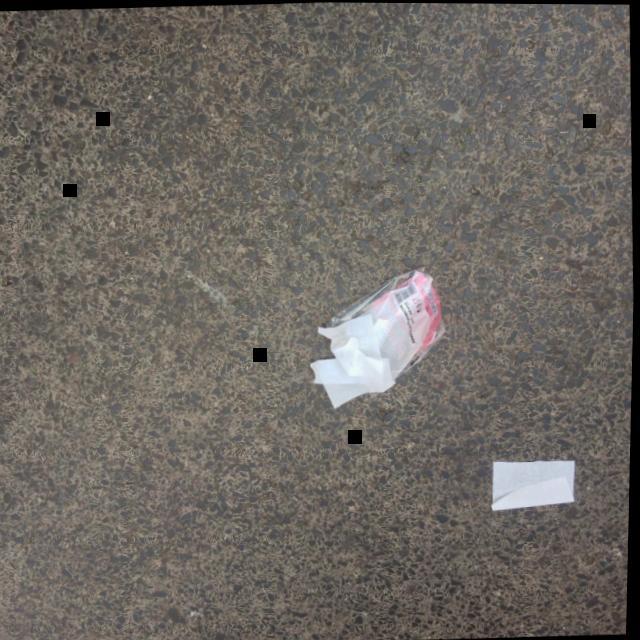Plastic film: (327, 266, 447, 380)
Tissues: (311, 325, 397, 408), (493, 459, 577, 510)
